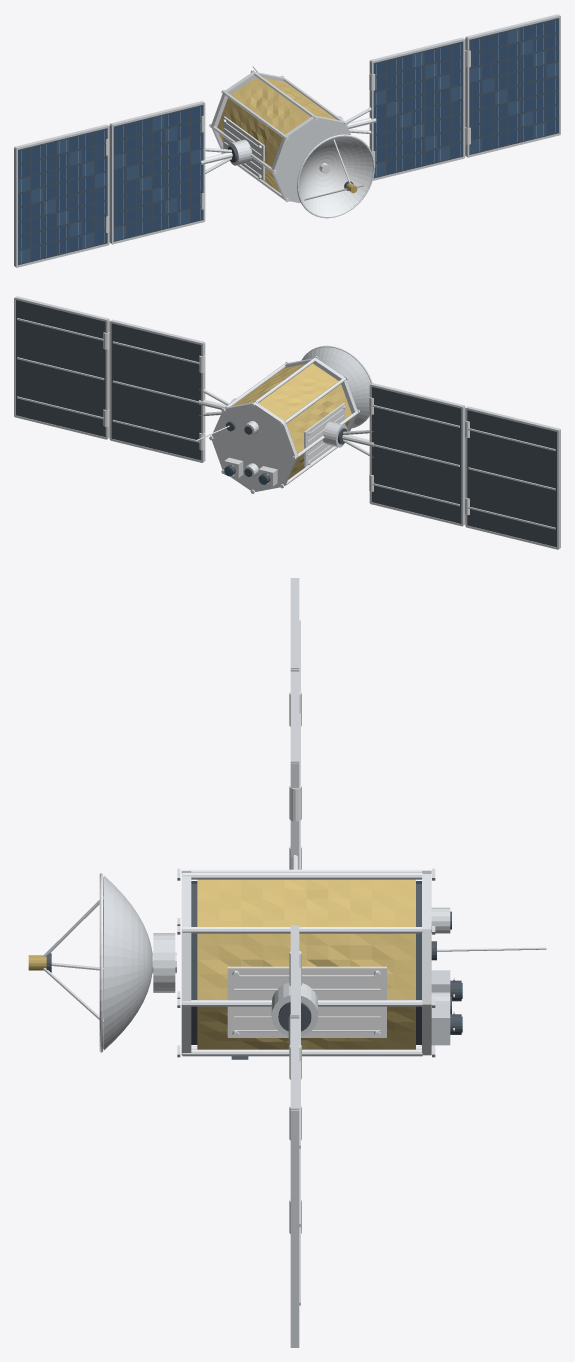
File: satellite.glb
3 views of the same model, one above another, from view 1: azimuth 30°, elevation 25°; view 2: azimuth 150°, elevation 25°; view 3: azimuth 270°, elevation 25° (orthographic). The views are drawn at different scales.
Parts seen in each view (by area): view 1: solar, aluminum, carbon, solar2, polished, gold_mli, interconnect, radiator; view 2: carbon, aluminum, gold_mli, polished, radiator; view 3: gold_mli, aluminum, polished, radiator, carbon.
Part boxes in pixels (bbox=[...]): solar: bbox=[18, 19, 558, 260]; aluminum: bbox=[14, 14, 560, 267]; carbon: bbox=[18, 18, 558, 265]; solar2: bbox=[18, 28, 558, 263]; polished: bbox=[105, 50, 470, 232]; gold_mli: bbox=[217, 77, 336, 193]; interconnect: bbox=[21, 20, 555, 262]; radiator: bbox=[223, 116, 264, 180]; carbon: bbox=[16, 300, 556, 547]; aluminum: bbox=[14, 296, 560, 549]; gold_mli: bbox=[232, 363, 351, 479]; polished: bbox=[103, 332, 469, 515]; radiator: bbox=[304, 403, 345, 467]; gold_mli: bbox=[197, 879, 415, 1049]; aluminum: bbox=[43, 578, 450, 1347]; polished: bbox=[99, 691, 546, 1233]; radiator: bbox=[227, 966, 386, 1037]; carbon: bbox=[46, 881, 461, 1059].
Size of the model in its own units: 9.16 by 1.92 by 3.77.
